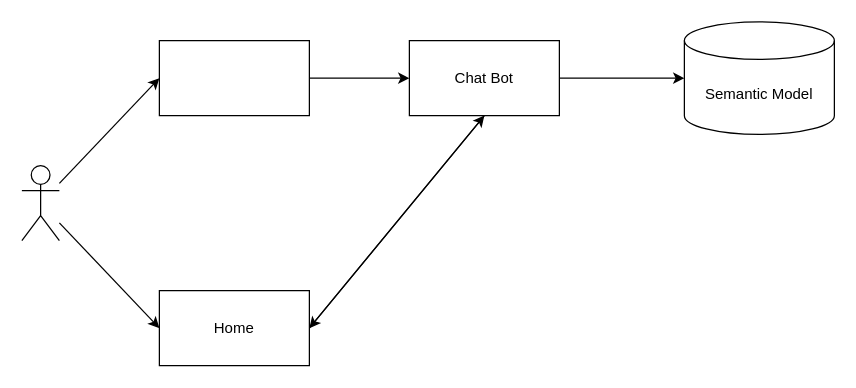
Some shapes in this 856 by 388 pixel diagram are drawn without their labels. Each missing label, with the centre of its shape:
Preferences: pixel 233 77
User: pixel 40 202
